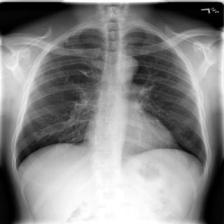normal: (10, 26, 213, 179)
